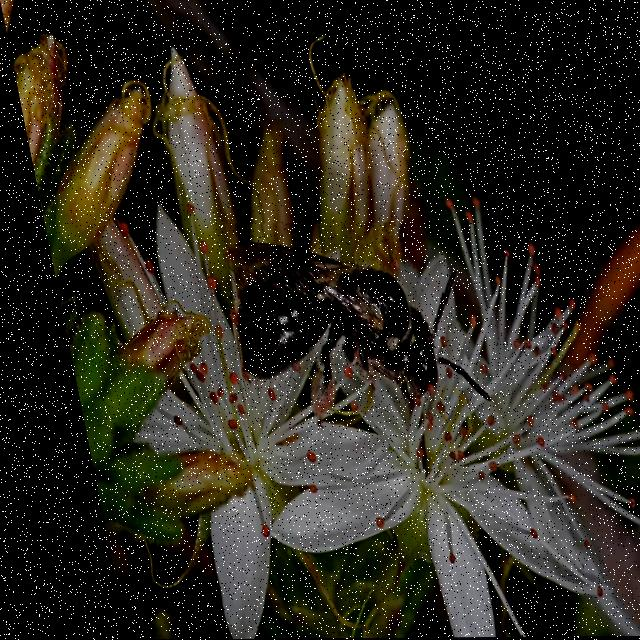Braunsapis: (203, 223, 460, 470)
